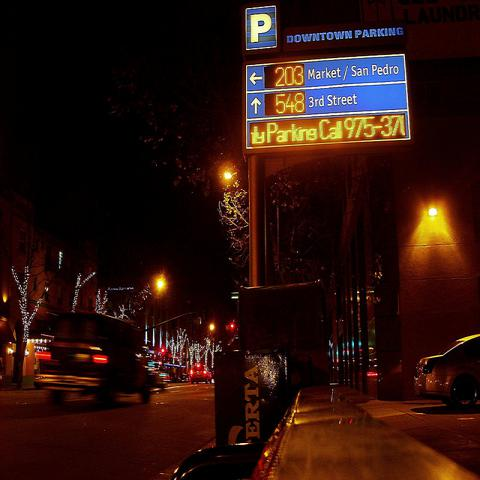car: (32, 325, 153, 388), (413, 334, 479, 412), (144, 364, 172, 391), (153, 361, 186, 382), (191, 364, 212, 385)
